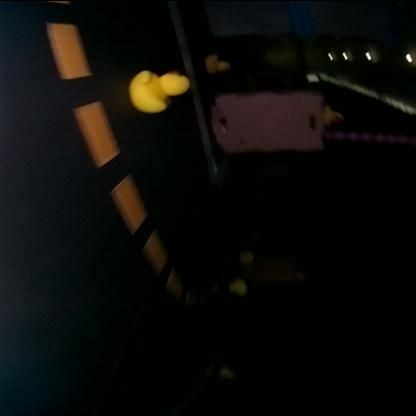Duckie: (132, 69, 190, 110), (207, 53, 230, 71), (230, 280, 248, 294), (240, 251, 255, 262)
